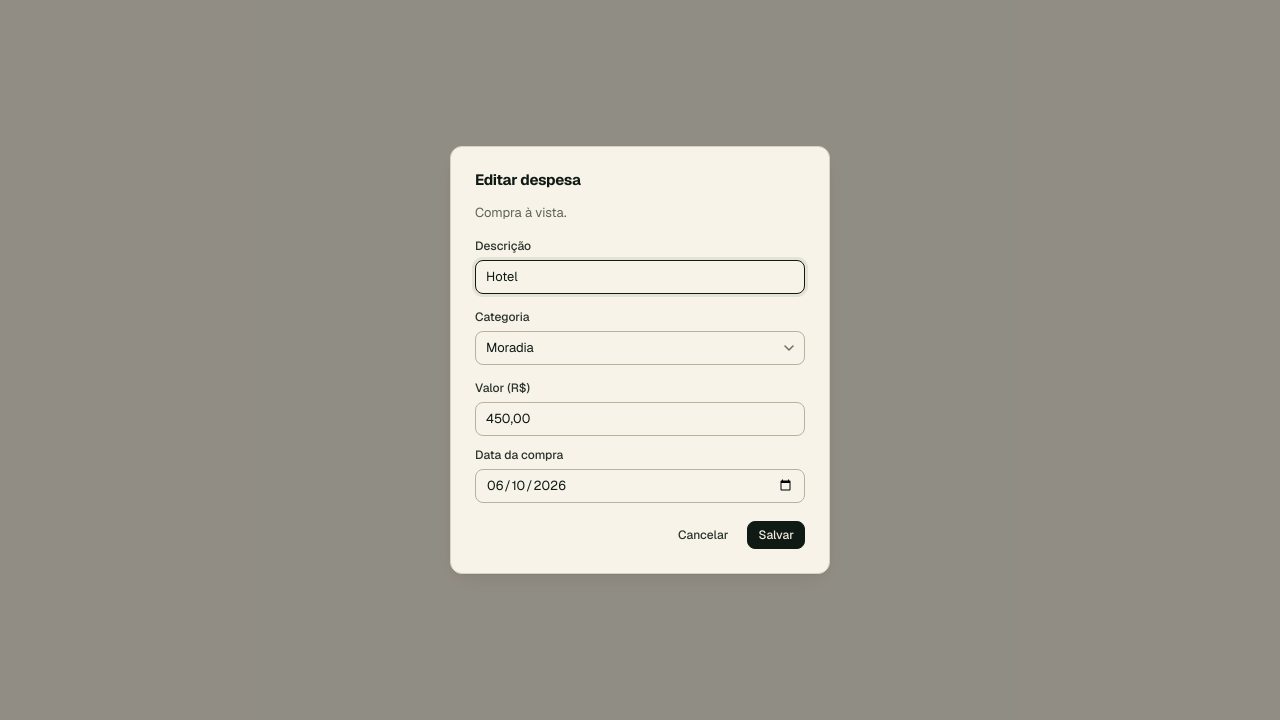
Test: EditarDespesaModal — erro ao salvar › mostra a mensagem sem o prefixo do Electron
The width and height of the screenshot is (1280, 720).
What coordinates should you click on to do the following:
click the button "Salvar"
I would click on:
 (776, 535)
Its box is [747, 521, 805, 549].
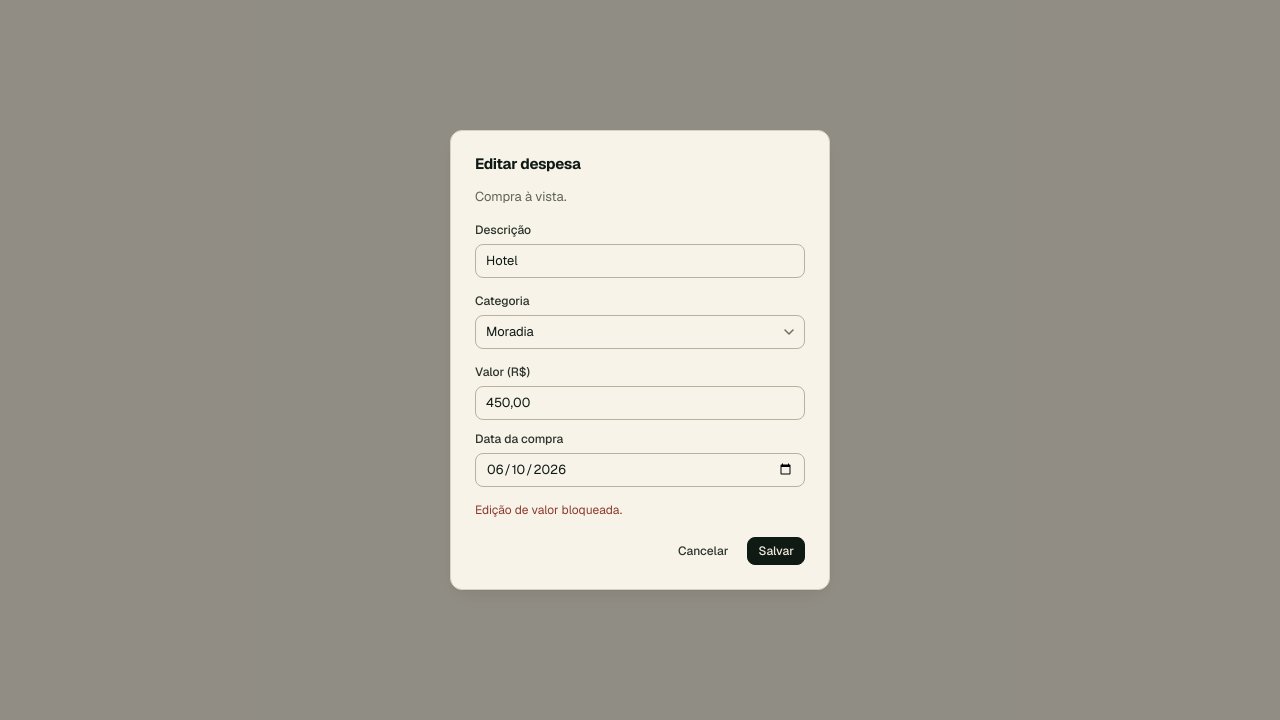
Now the text "Edição de valor bloqueada." is shown, box [475, 502, 622, 518]
